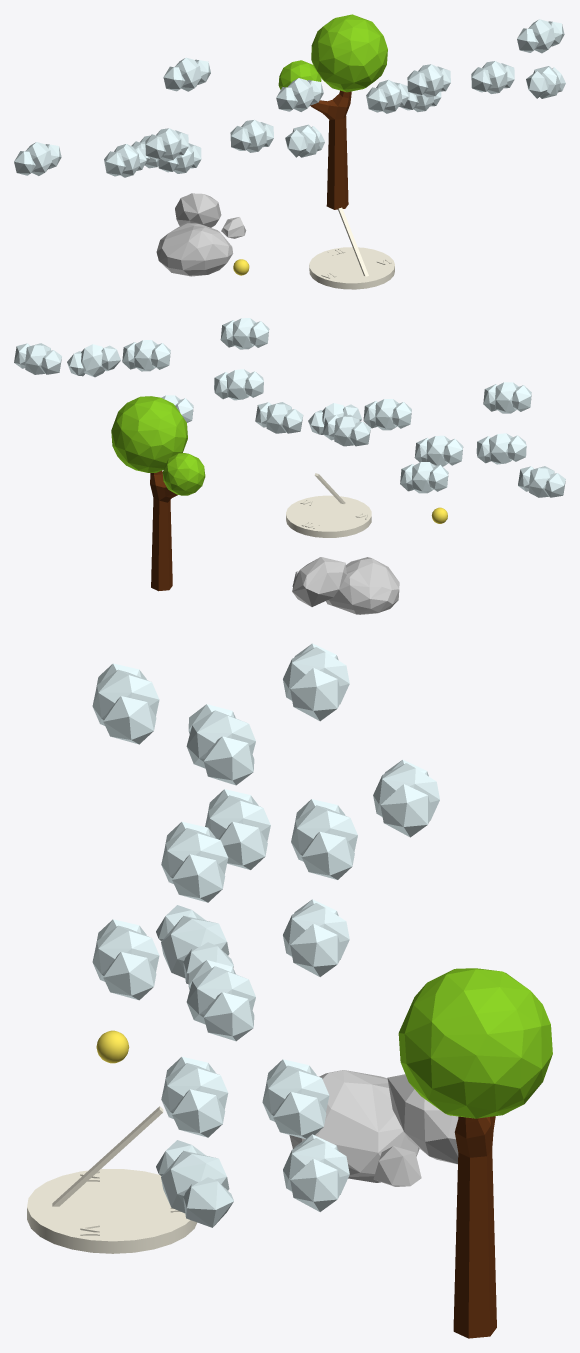
Rendered from sundialdraco.gltf.
The picture shows the model from 3 angles, top to bottom: view 1: azimuth 30°, elevation 25°; view 2: azimuth 150°, elevation 25°; view 3: azimuth 270°, elevation 25°; orthographic projection. The views are drawn at different scales.
Visible parts, largest first — view 1: Icosphere_Icosphere_002, MoText_2, Sphere, Cylinder_014, Sphere_001, Cloud_1_4_3, Cloud_1_4, Cloud_1, Cloud_1_1_3, Cloud_1_2, Cloud_1_5, Cloud_1_2_2 (+9 smaller); view 2: Icosphere_Icosphere_002, MoText_2, Sphere, Cylinder_014, Sphere_001, Icosphere_001_Icosphere_003, Cloud_1_6, Cloud_1_1, Cloud_1_3_3, Cloud_1_2, Cloud_1_5, Cloud_1_3 (+9 smaller); view 3: Icosphere_Icosphere_002, MoText_2, Cylinder_014, Sphere, Cloud_1_6, Cloud_1_1, Cloud_1_3_3, Cloud_1_2, Cloud_1_2_3, Cloud_1_5, Cloud_1_2_2, Cloud_1_3 (+10 smaller).
Part boxes in pixels (bbox=[...]): Icosphere_Icosphere_002: bbox=[311, 14, 387, 92]; MoText_2: bbox=[309, 207, 394, 289]; Sphere: bbox=[156, 223, 233, 276]; Cylinder_014: bbox=[310, 90, 351, 209]; Sphere_001: bbox=[175, 193, 221, 227]; Cloud_1_4_3: bbox=[276, 78, 323, 111]; Cloud_1_4: bbox=[517, 19, 564, 53]; Cloud_1: bbox=[14, 142, 61, 175]; Cloud_1_1_3: bbox=[163, 57, 210, 91]; Cloud_1_2: bbox=[145, 128, 188, 161]; Cloud_1_5: bbox=[471, 61, 514, 93]; Cloud_1_2_2: bbox=[407, 64, 450, 97]; Icosphere_Icosphere_002: bbox=[111, 396, 187, 472]; MoText_2: bbox=[286, 473, 371, 537]; Sphere: bbox=[326, 557, 399, 614]; Cylinder_014: bbox=[150, 470, 177, 591]; Sphere_001: bbox=[292, 557, 346, 606]; Icosphere_001_Icosphere_003: bbox=[162, 453, 205, 495]; Cloud_1_6: bbox=[67, 344, 120, 377]; Cloud_1_1: bbox=[476, 433, 526, 464]; Cloud_1_3_3: bbox=[214, 369, 263, 400]; Cloud_1_2: bbox=[483, 382, 531, 413]; Cloud_1_5: bbox=[122, 340, 170, 371]; Cloud_1_3: bbox=[400, 462, 448, 493]; Icosphere_Icosphere_002: bbox=[398, 968, 552, 1118]; MoText_2: bbox=[27, 1106, 197, 1253]; Cylinder_014: bbox=[453, 1116, 496, 1338]; Sphere: bbox=[289, 1070, 419, 1182]; Cloud_1_6: bbox=[156, 1140, 233, 1227]; Cloud_1_1: bbox=[186, 704, 255, 785]; Cloud_1_3_3: bbox=[186, 960, 255, 1041]; Cloud_1_2: bbox=[92, 663, 159, 744]; Cloud_1_2_3: bbox=[161, 821, 228, 902]; Cloud_1_5: bbox=[161, 1056, 228, 1137]; Cloud_1_2_2: bbox=[92, 919, 159, 1000]; Cloud_1_3: bbox=[291, 799, 357, 879].
Bounding box in the file's own units: 738 × 264 × 306.
